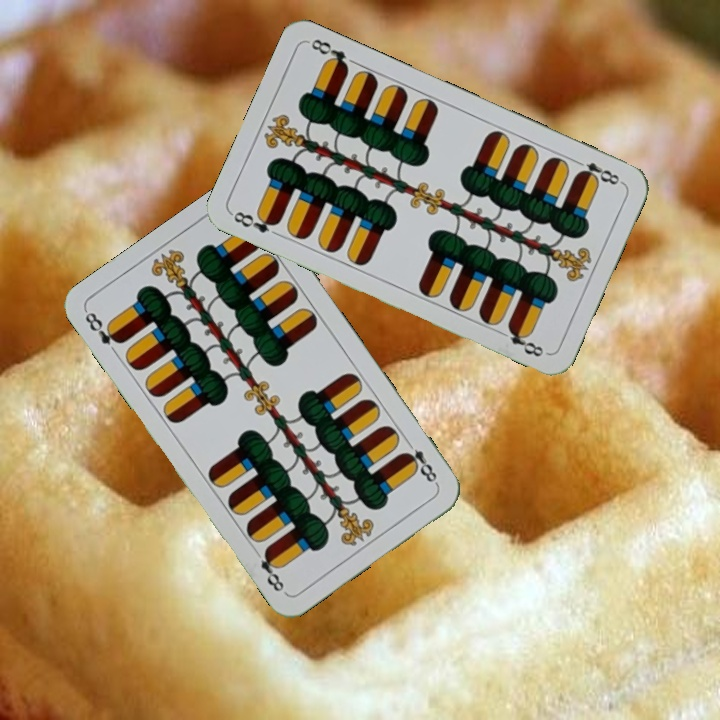E8: (399, 436, 441, 488), (569, 155, 625, 188), (81, 307, 125, 348), (229, 207, 283, 236)
